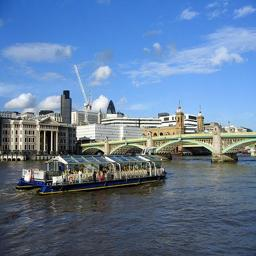boat: (52, 225, 256, 256)
